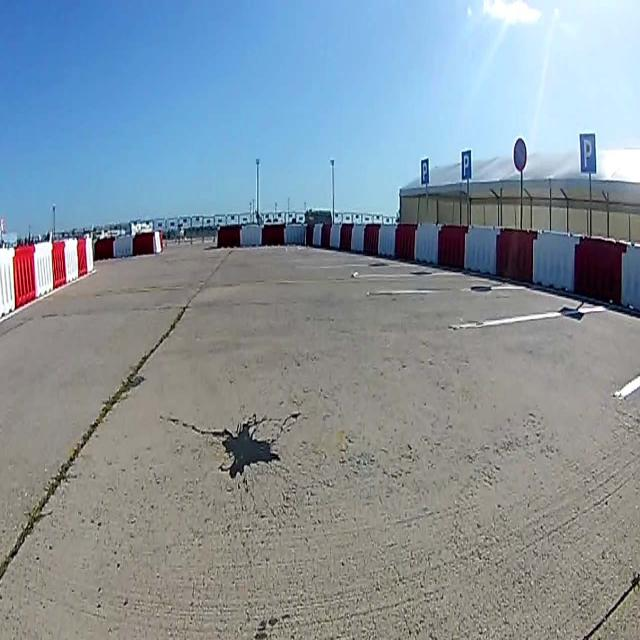park: (579, 132, 596, 174), (462, 150, 472, 181), (419, 158, 428, 185)
parkyasak: (513, 138, 527, 172)
